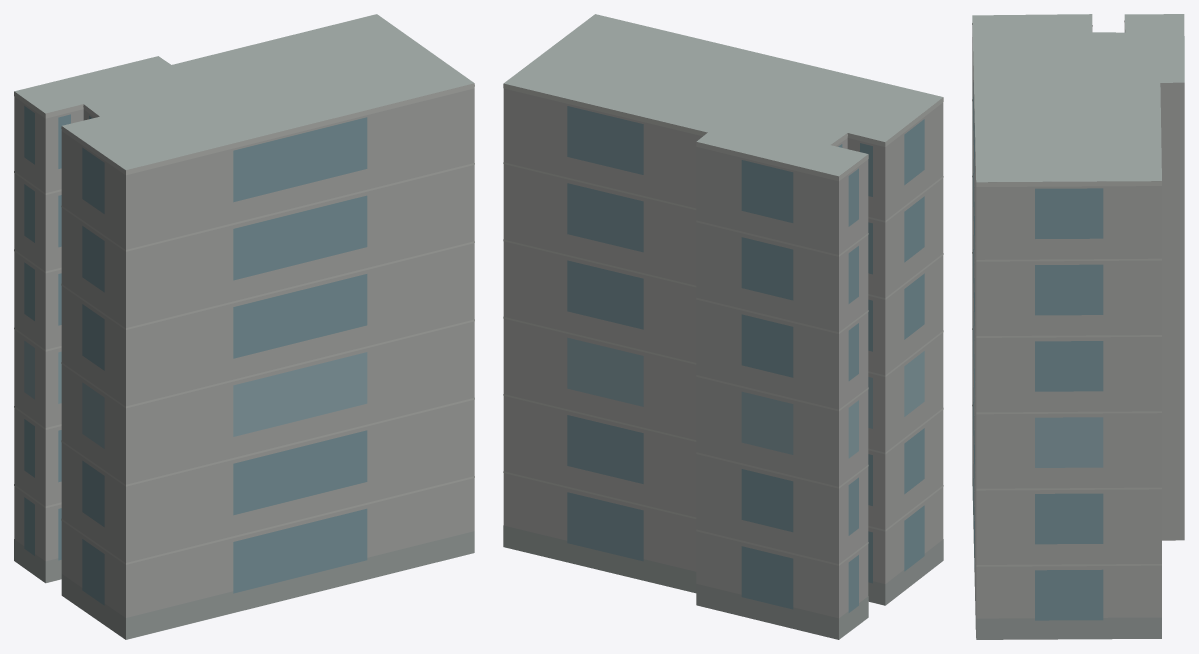
Rendered from survey-upis-32964976.glb.
The picture shows the model from 3 angles, left to right: view 1: azimuth 30°, elevation 25°; view 2: azimuth 150°, elevation 25°; view 3: azimuth 270°, elevation 25°; orthographic projection. The views are drawn at different scales.
Parts seen in each view (by area): view 1: survey-upis-32964976.tmp; view 2: survey-upis-32964976.tmp; view 3: survey-upis-32964976.tmp.
Part boxes in pixels (x1,y1,x2,y2): survey-upis-32964976.tmp: [14, 14, 474, 639]; survey-upis-32964976.tmp: [503, 14, 943, 639]; survey-upis-32964976.tmp: [972, 14, 1184, 639].
Size of the model in its own units: 17.88 by 22.65 by 9.55.
